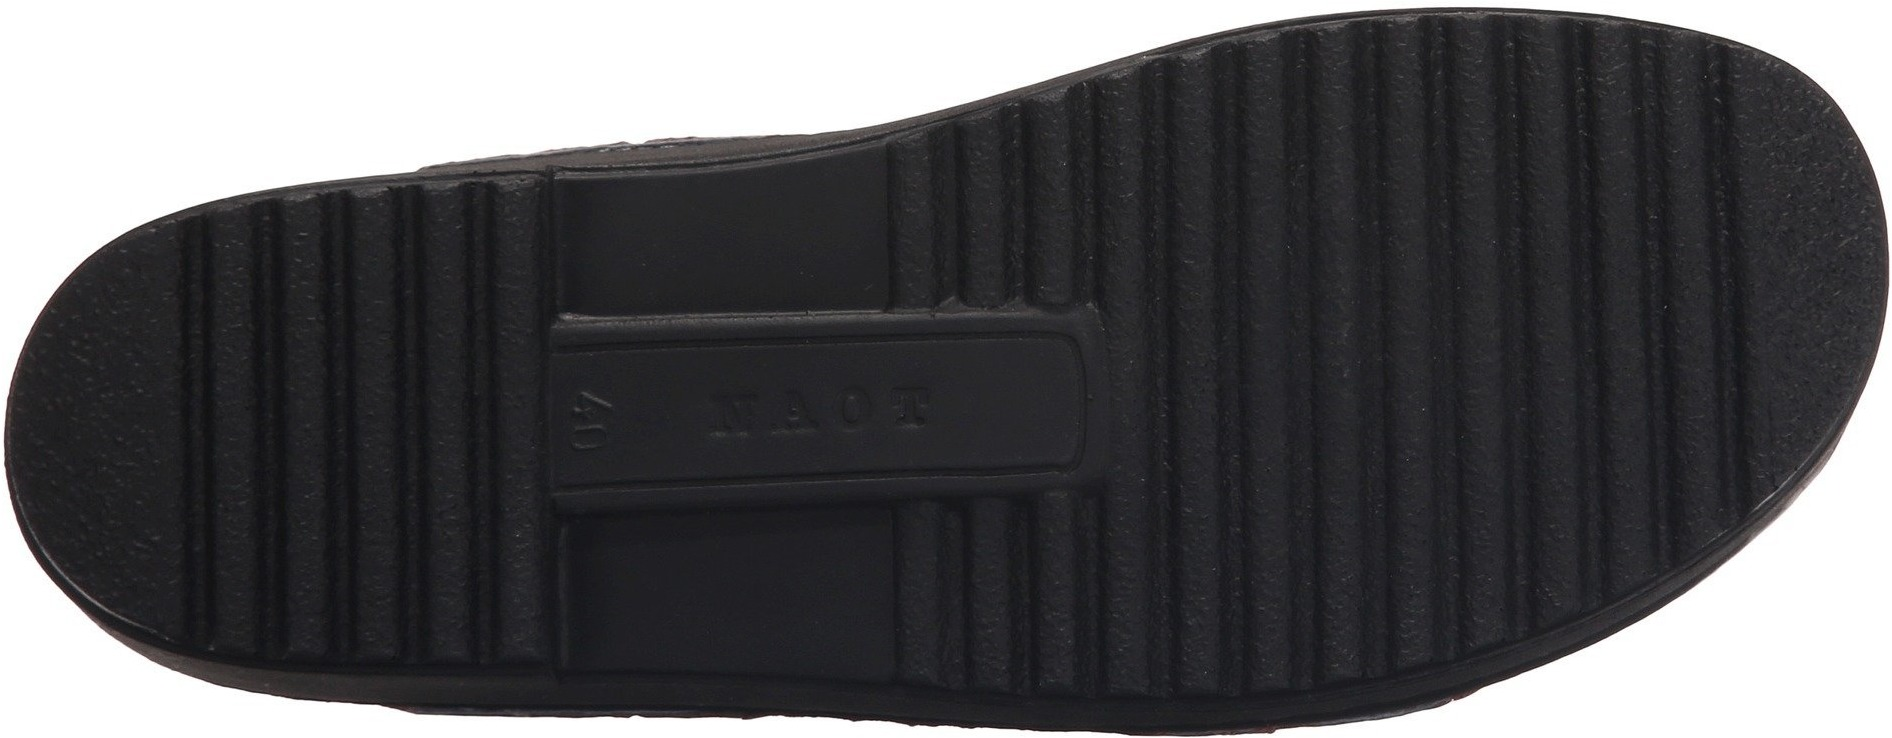exclude: (557, 101, 901, 316), (565, 498, 905, 690)
other: (28, 367, 181, 537), (1764, 203, 1871, 314), (974, 359, 1059, 441)
quad: (1376, 43, 1699, 333), (1125, 351, 1386, 621), (1088, 77, 1356, 333), (1396, 359, 1627, 594), (174, 248, 405, 471), (211, 475, 411, 658), (901, 490, 1081, 683), (899, 139, 1064, 303), (411, 292, 557, 462), (419, 523, 550, 668)
text: (717, 355, 827, 469), (563, 359, 665, 463), (842, 370, 934, 453)
